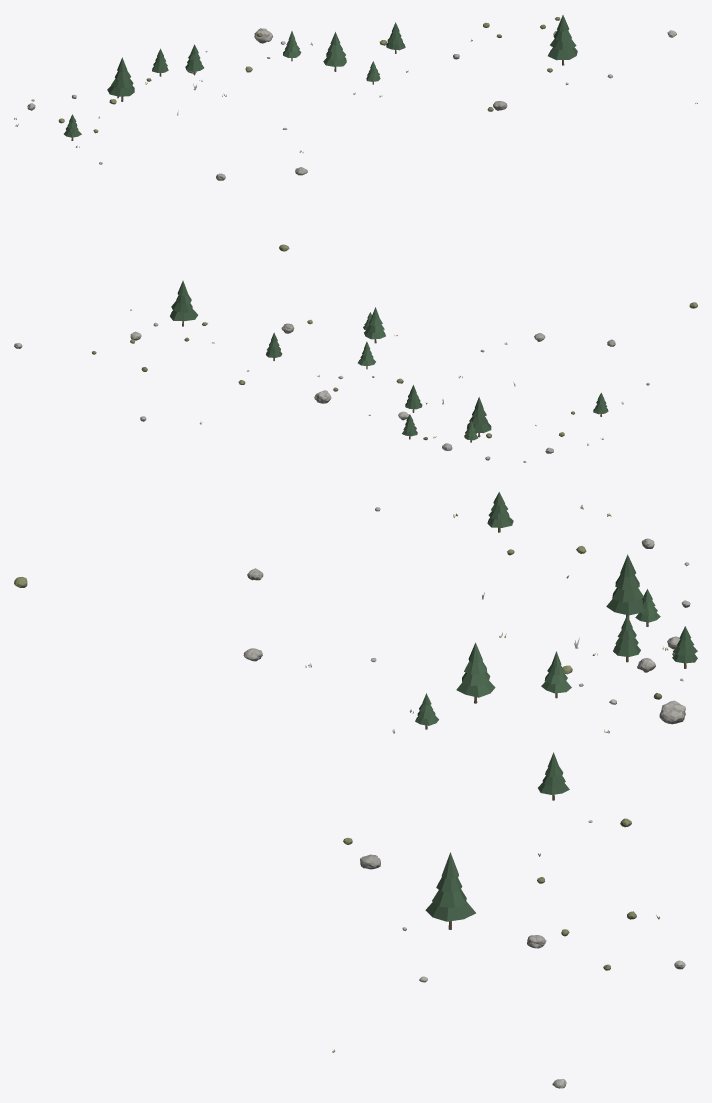
File: coast_land_scatter_c13_20.glb
The picture shows the model from 3 angles, top to bottom: view 1: azimuth 30°, elevation 25°; view 2: azimuth 150°, elevation 25°; view 3: azimuth 270°, elevation 25°; orthographic projection. The views are drawn at different scales.
Parts seen in each view (by area): view 1: coast_land_scatter_c13_20; view 2: coast_land_scatter_c13_20; view 3: coast_land_scatter_c13_20.
Boxes of the visible parts, box(x1,y1,x2,y2) form: coast_land_scatter_c13_20: box(14, 15, 697, 251); coast_land_scatter_c13_20: box(14, 280, 697, 462); coast_land_scatter_c13_20: box(14, 492, 697, 1088).
Bounding box in the file's own units: 221 × 39.56 × 131.
